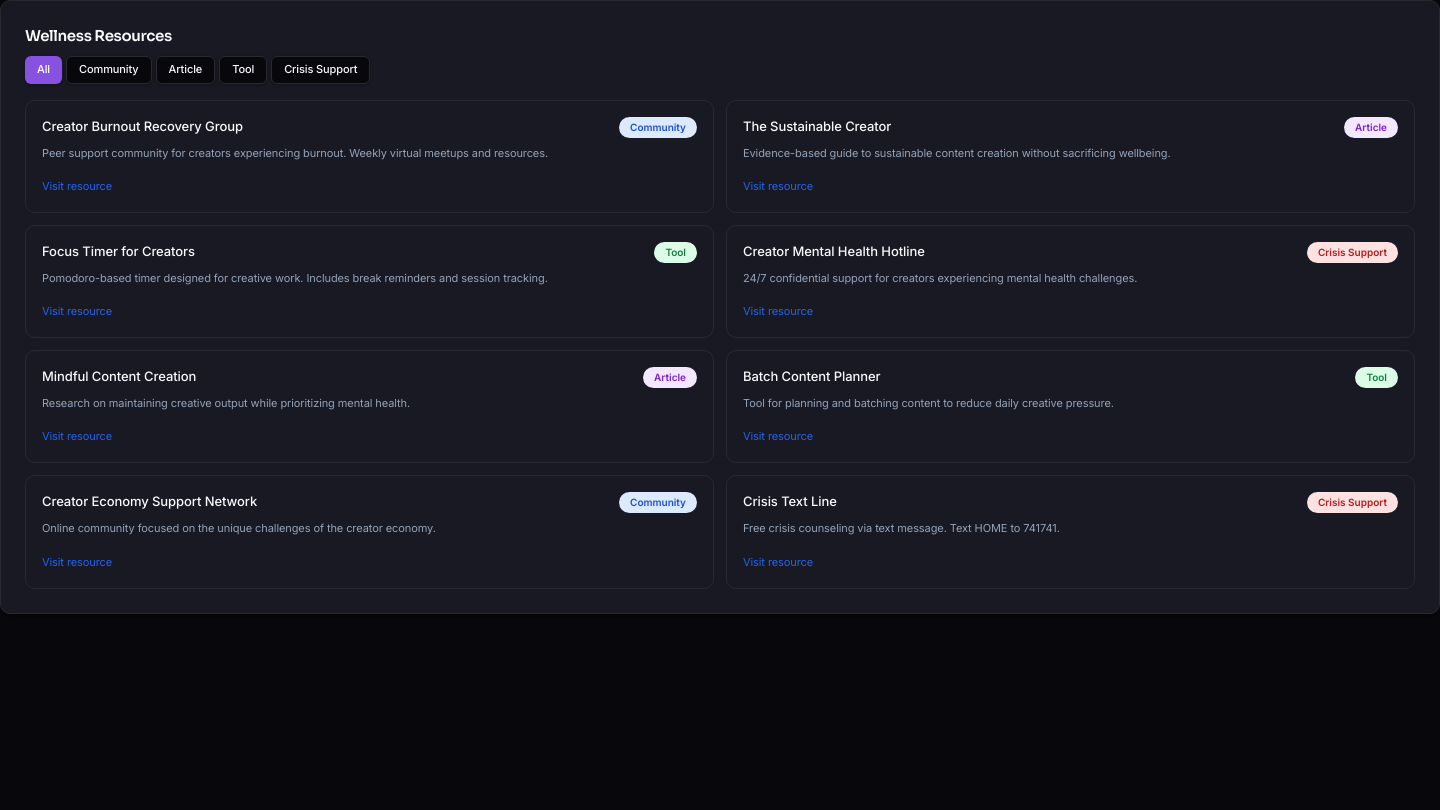
it: WellnessResources › shows all when All filter selected
The width and height of the screenshot is (1440, 810).
Click the button "Tool" at (243, 70), box x1=219 y1=56 x2=267 y2=84
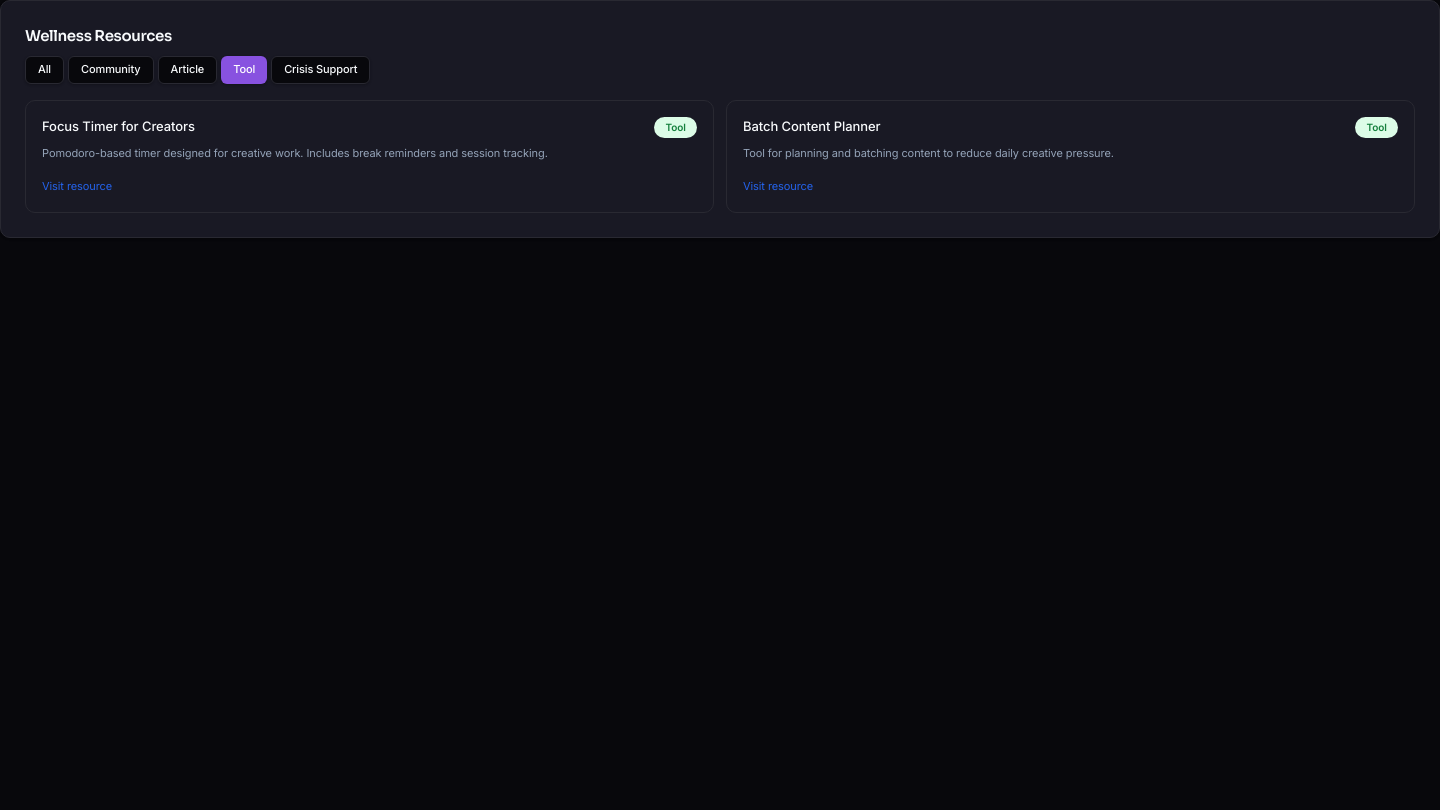
Click the button "All" at (44, 70), box x1=25 y1=56 x2=64 y2=84
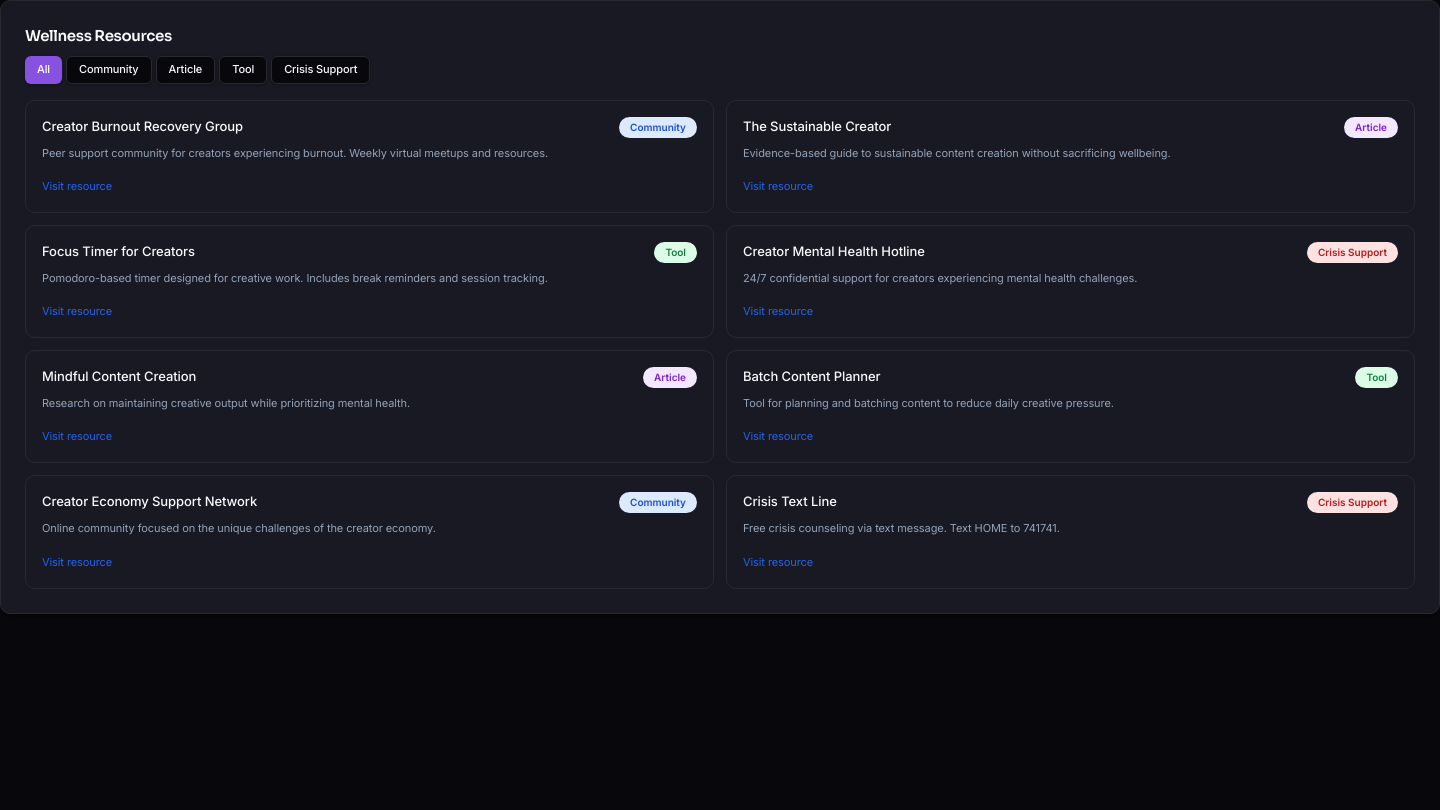
Check: the heading "Focus Timer for Creators" is shown, box x1=42 y1=243 x2=195 y2=259
Check: the heading "Creator Burnout Recovery Group" is shown, box x1=42 y1=118 x2=243 y2=134
